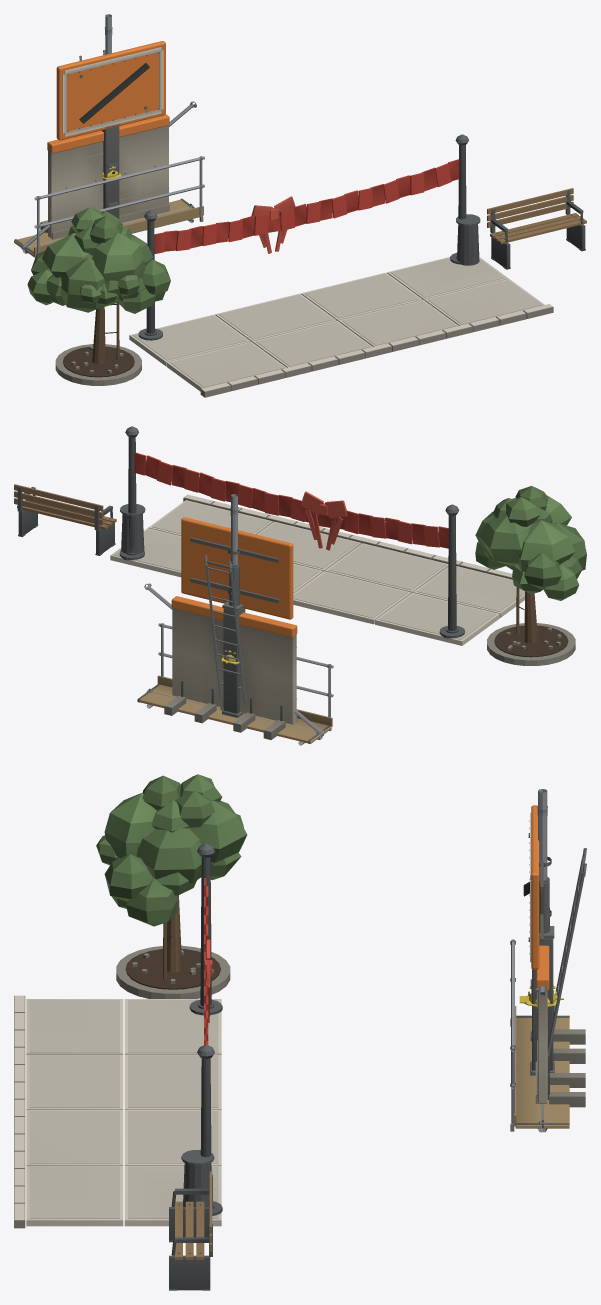
Rendered from site-kit-near.glb.
The picture shows the model from 3 angles, top to bottom: view 1: azimuth 30°, elevation 25°; view 2: azimuth 150°, elevation 25°; view 3: azimuth 270°, elevation 25°; orthographic projection. The views are drawn at different scales.
Visible parts, largest first — view 1: CompletedYard, SiteSign, FenceSheet, FenceHalf, ScaffoldDeck, FencePost; view 2: CompletedYard, FenceSheet, SiteSign, FenceHalf, ScaffoldDeck, FencePost, ScaffoldLadder, ScaffoldFoot; view 3: CompletedYard, ScaffoldDeck, FenceSheet, SiteSign, FencePost, ScaffoldLadder, FenceHalf, ScaffoldFoot.
Boxes of the visible parts, <box> form: CompletedYard: <box>27,134,586,397</box>; SiteSign: <box>56,41,165,140</box>; FenceSheet: <box>40,114,169,239</box>; FenceHalf: <box>81,122,140,222</box>; ScaffoldDeck: <box>14,156,204,257</box>; FencePost: <box>101,123,120,218</box>; CompletedYard: <box>14,426,586,665</box>; FenceSheet: <box>164,596,297,739</box>; SiteSign: <box>181,517,293,717</box>; FenceHalf: <box>194,604,265,732</box>; ScaffoldDeck: <box>137,623,333,745</box>; FencePost: <box>222,601,245,713</box>; ScaffoldLadder: <box>204,555,245,713</box>; ScaffoldFoot: <box>230,494,238,564</box>; CompletedYard: <box>14,774,247,1290</box>; ScaffoldDeck: <box>510,939,569,1131</box>; FenceSheet: <box>535,945,585,1107</box>; SiteSign: <box>523,805,554,1075</box>; FencePost: <box>530,926,554,1070</box>; ScaffoldLadder: <box>547,848,586,1054</box>; FenceHalf: <box>535,945,585,1087</box>; ScaffoldFoot: <box>537,789,547,880</box>.
Size of the model in its own units: 10.15 by 3.88 by 6.98.
